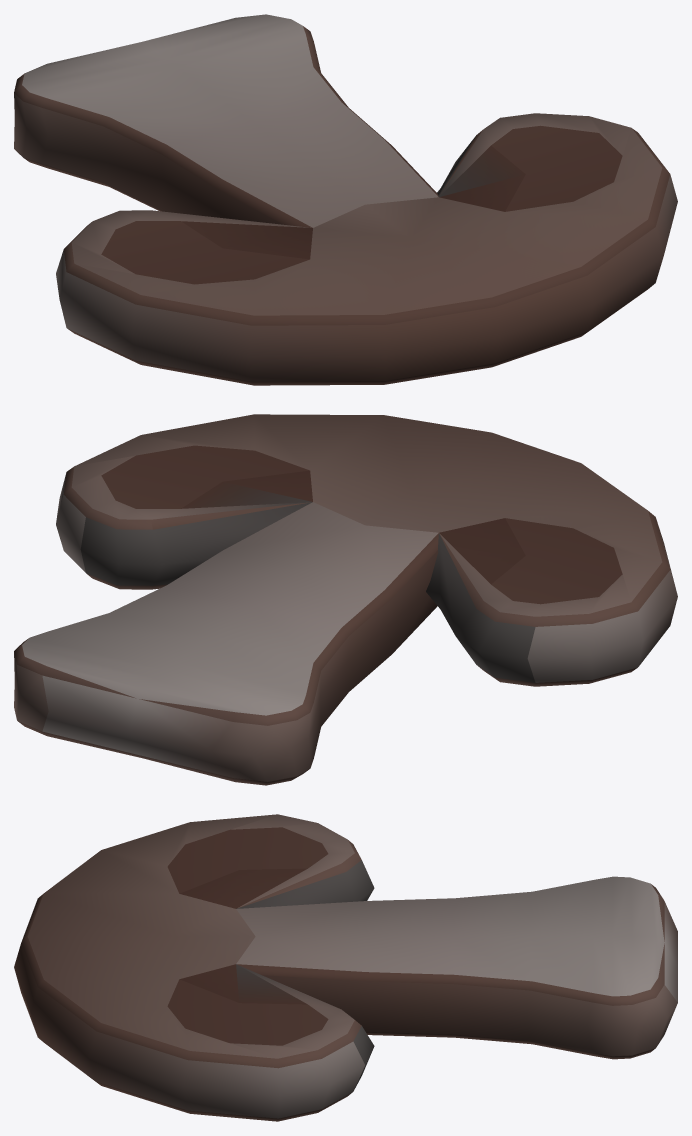
The model's file is Mushroom_006.glb.
3 renders of one model, top to bottom at view 1: azimuth 30°, elevation 25°; view 2: azimuth 150°, elevation 25°; view 3: azimuth 270°, elevation 25°, orthographic. The views are drawn at different scales.
Parts seen in each view (by area): view 1: geometry_0; view 2: geometry_0; view 3: geometry_0.
Boxes of the visible parts, x1=… form: geometry_0: x1=14, y1=14, x2=677, y2=385; geometry_0: x1=14, y1=414, x2=677, y2=785; geometry_0: x1=14, y1=814, x2=677, y2=1121.
Bounding box in the file's own units: 0.0644 × 0.00738 × 0.0706.
Materials: 1 (1 with a texture image).
